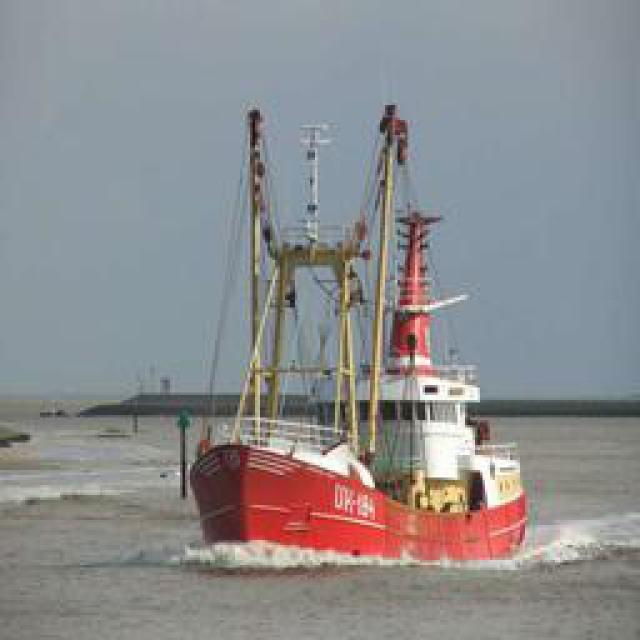Ship: (169, 86, 534, 569)
